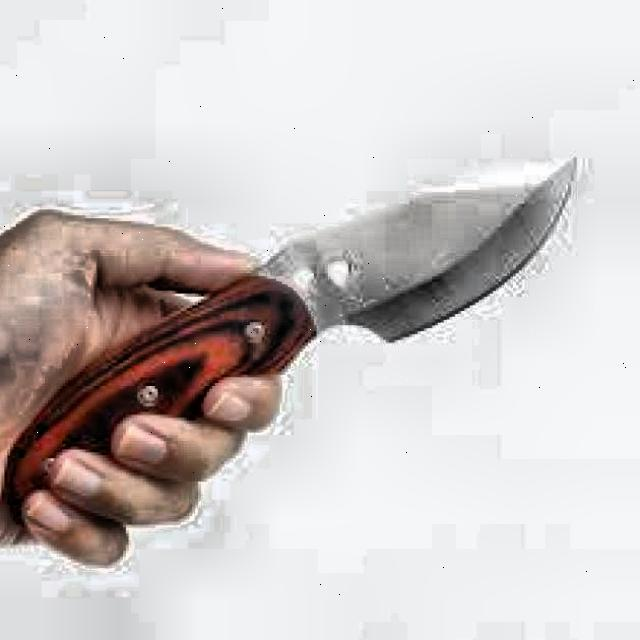knife: (5, 160, 577, 528)
